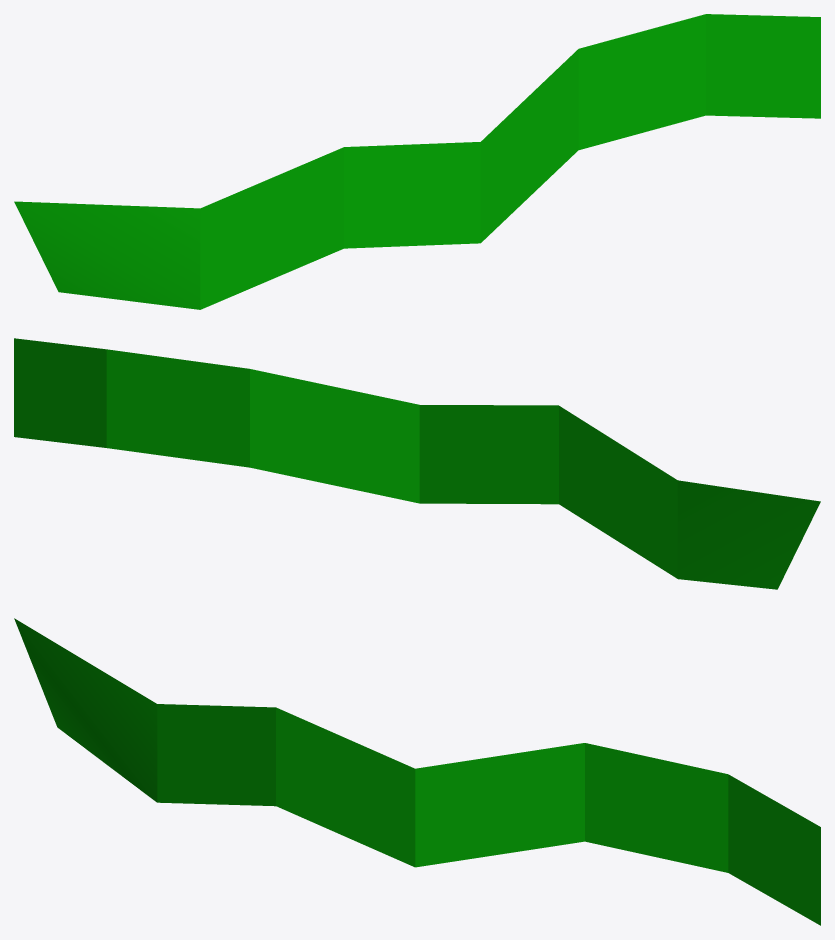
Rendered from M8_Idiot_Stopper_07.glb.
The picture shows the model from 3 angles, top to bottom: view 1: azimuth 30°, elevation 25°; view 2: azimuth 150°, elevation 25°; view 3: azimuth 330°, elevation 25°; orthographic projection. The views are drawn at different scales.
Visible parts, largest first — view 1: M8_IDIOT_STOPPER_07; view 2: M8_IDIOT_STOPPER_07; view 3: M8_IDIOT_STOPPER_07.
Boxes of the visible parts, x1=… form: M8_IDIOT_STOPPER_07: x1=14, y1=14, x2=820, y2=309; M8_IDIOT_STOPPER_07: x1=14, y1=338, x2=820, y2=589; M8_IDIOT_STOPPER_07: x1=14, y1=618, x2=820, y2=925.
Size of the model in its own units: 71.68 by 11.62 by 7.81.
